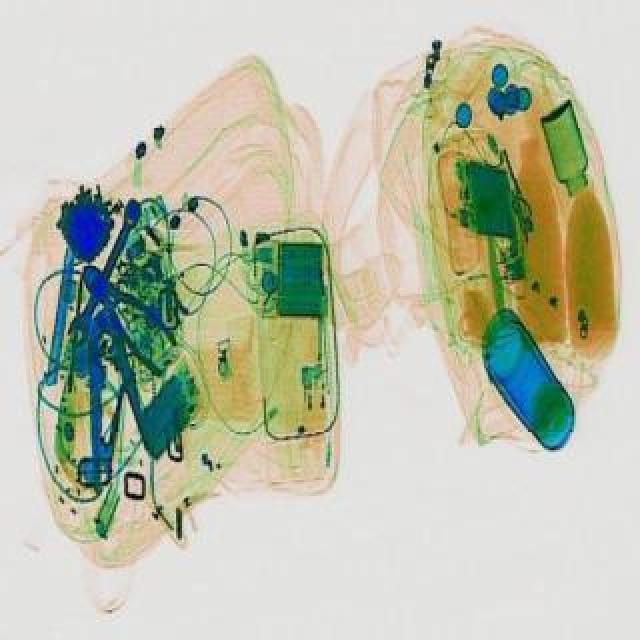scissors: (60, 194, 144, 346)
wrench: (66, 254, 190, 376), (70, 304, 152, 468)
